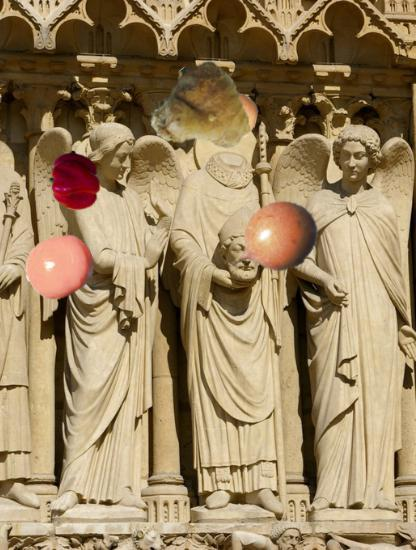Clementine: (25, 232, 95, 302)
Ginger: (154, 66, 250, 162)
Granadilla: (218, 192, 322, 296)
Kumquats: (181, 75, 258, 152)
Pepper: (47, 153, 104, 210)
